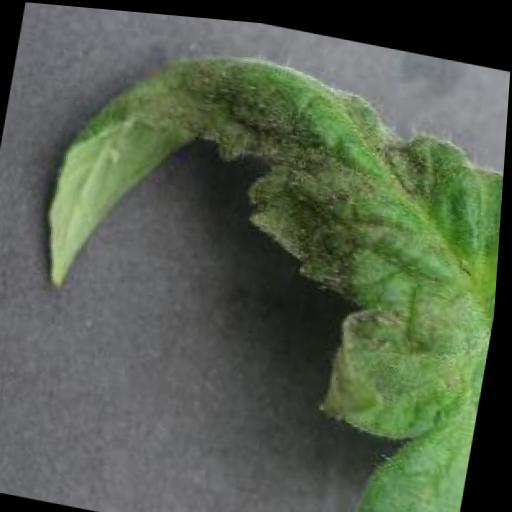Late Blight: (1, 13, 511, 512)
